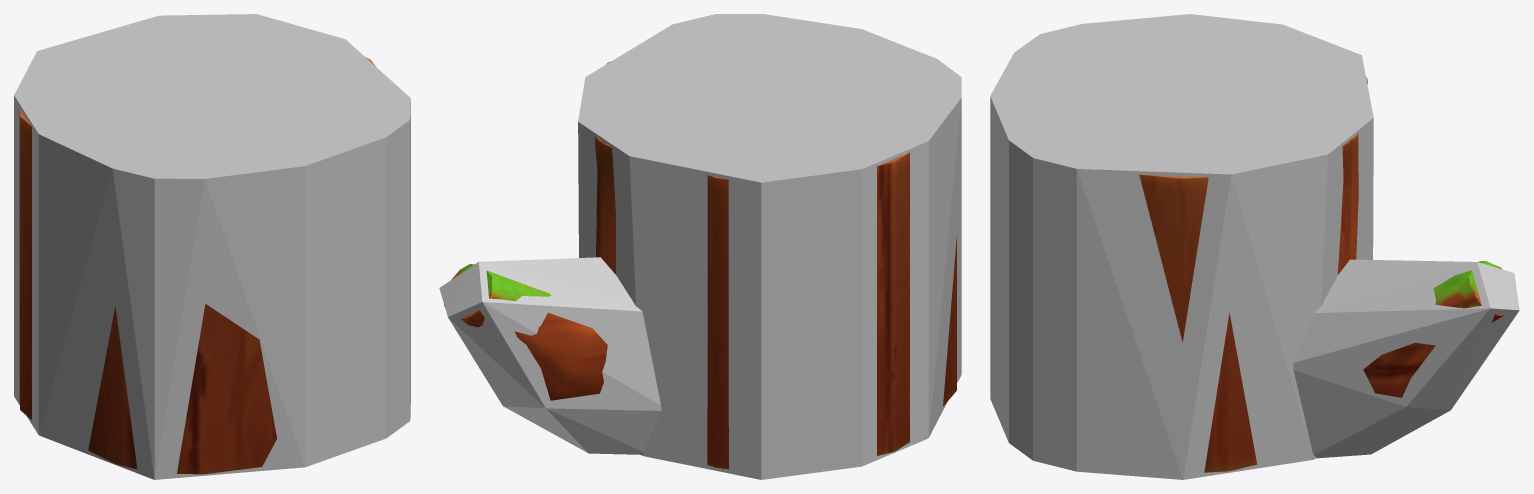
File: SM_Stump03.fbx
The picture shows the model from 3 angles, left to right: view 1: azimuth 30°, elevation 25°; view 2: azimuth 150°, elevation 25°; view 3: azimuth 270°, elevation 25°; orthographic projection.
Parts seen in each view (by area): view 1: SM_Stump03_ConvexHulls, SM_Stump03; view 2: SM_Stump03_ConvexHulls, SM_Stump03; view 3: SM_Stump03_ConvexHulls, SM_Stump03.
Boxes of the visible parts, x1,y1,x2,y2 form: SM_Stump03_ConvexHulls: (14, 14, 410, 479); SM_Stump03: (19, 57, 375, 474); SM_Stump03_ConvexHulls: (439, 14, 961, 479); SM_Stump03: (444, 61, 956, 469); SM_Stump03_ConvexHulls: (990, 14, 1519, 479); SM_Stump03: (1139, 77, 1504, 472).
Size of the model in its own units: 55.52 by 73.14 by 46.23.
2 materials, 1 textured.
